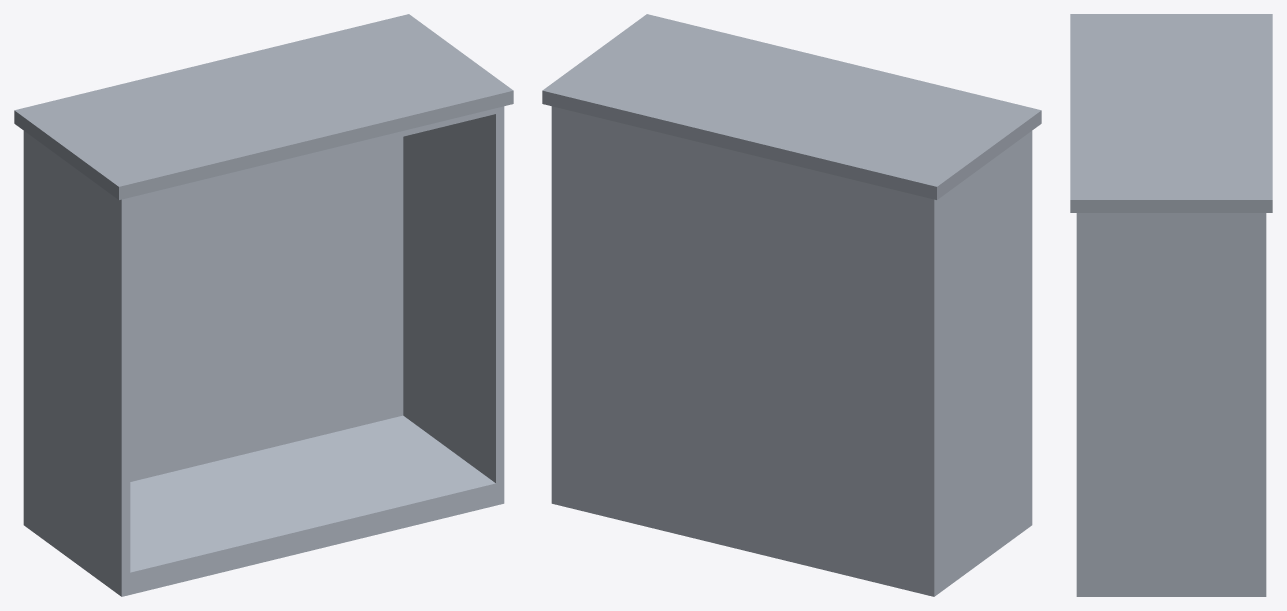
The model's file is Dresser4_C1.fbx.
3 views of the same model, side by side, from view 1: azimuth 30°, elevation 25°; view 2: azimuth 150°, elevation 25°; view 3: azimuth 270°, elevation 25° (orthographic). The views are drawn at different scales.
Parts seen in each view (by area): view 1: Dresser4_C1; view 2: Dresser4_C1; view 3: Dresser4_C1.
Boxes of the visible parts, x1,y1,x2,y2 form: Dresser4_C1: (14,14,513,596); Dresser4_C1: (542,14,1041,596); Dresser4_C1: (1070,14,1272,596).
Size of the model in its own units: 92.81 by 93 by 42.63.
